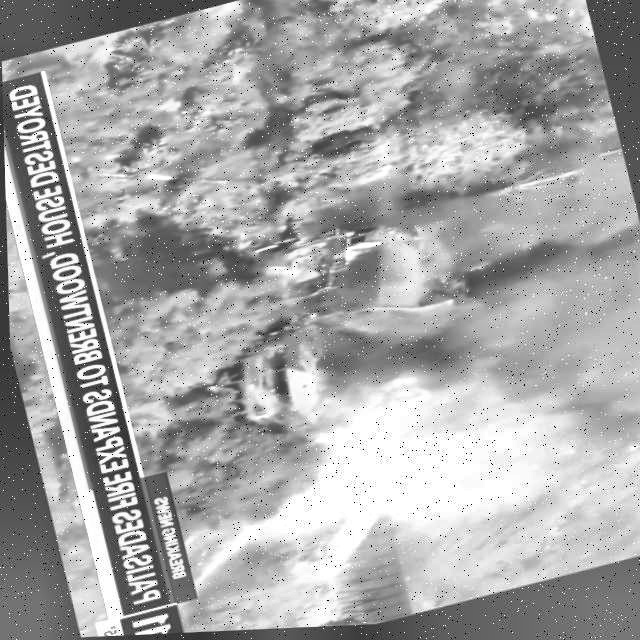Smoke: (386, 155, 640, 426)
